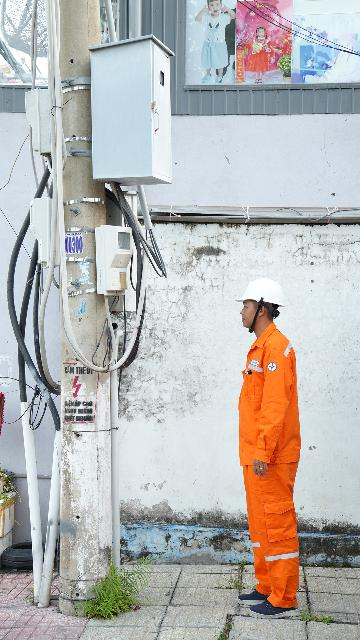helmet: (240, 271, 294, 312)
shoes: (242, 588, 304, 622), (234, 585, 273, 605)
